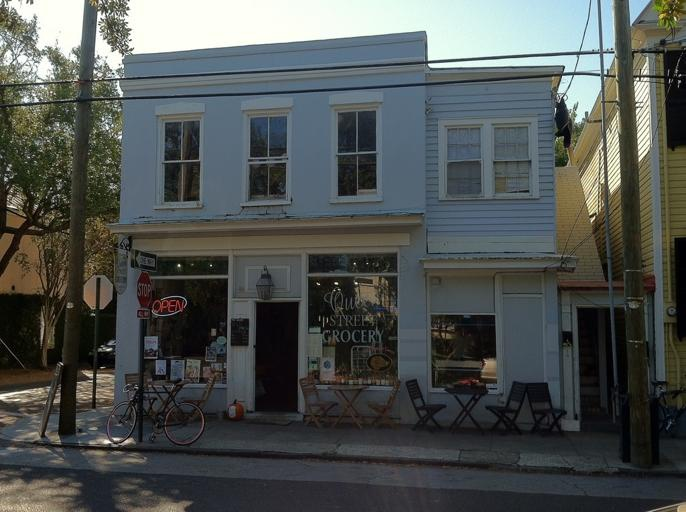non-vehicle: (105, 378, 206, 445), (646, 375, 686, 439)
